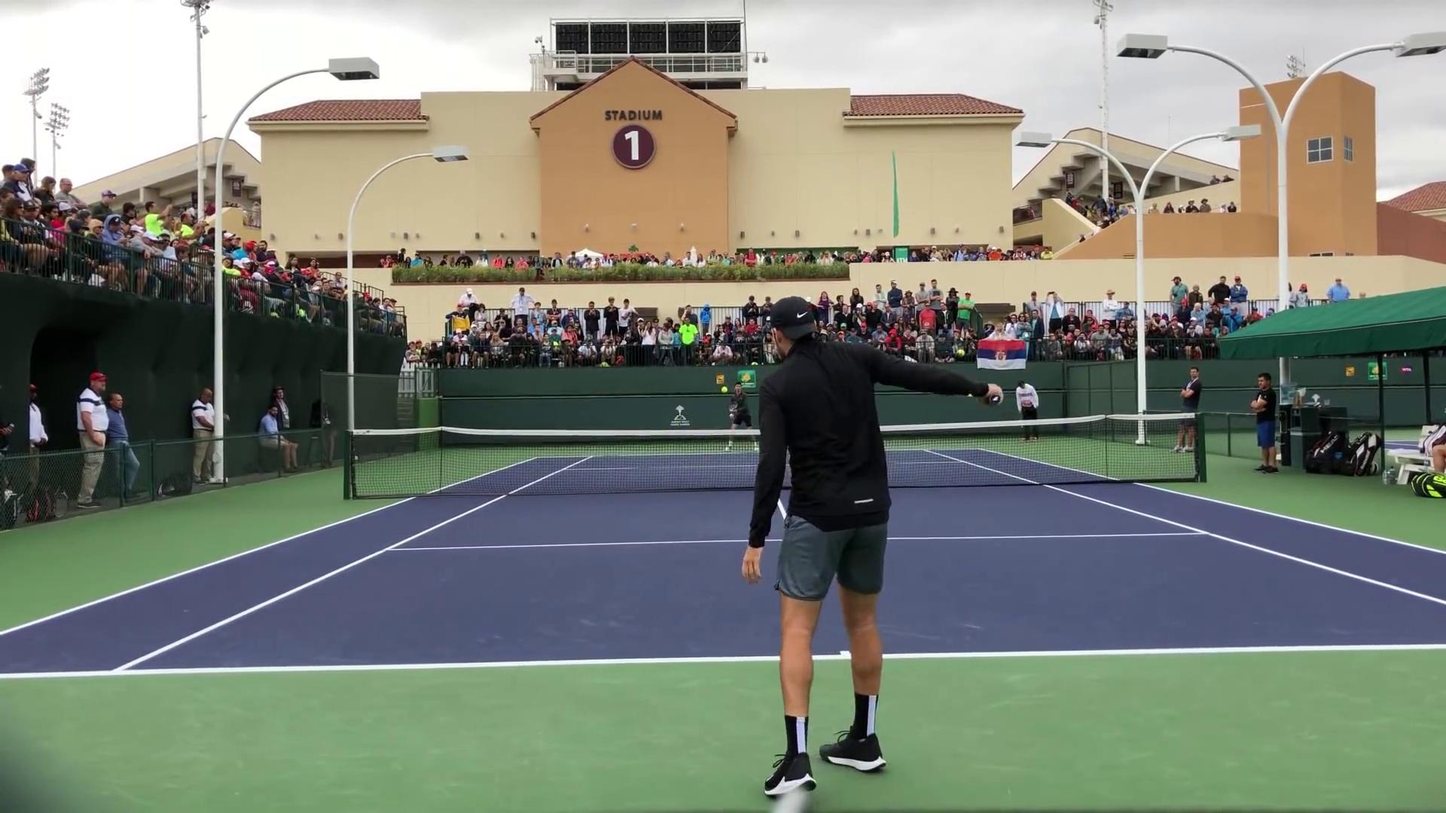ball: (719, 386, 729, 396)
